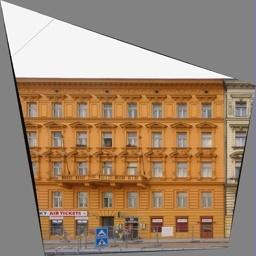building: (24, 73, 228, 242)
